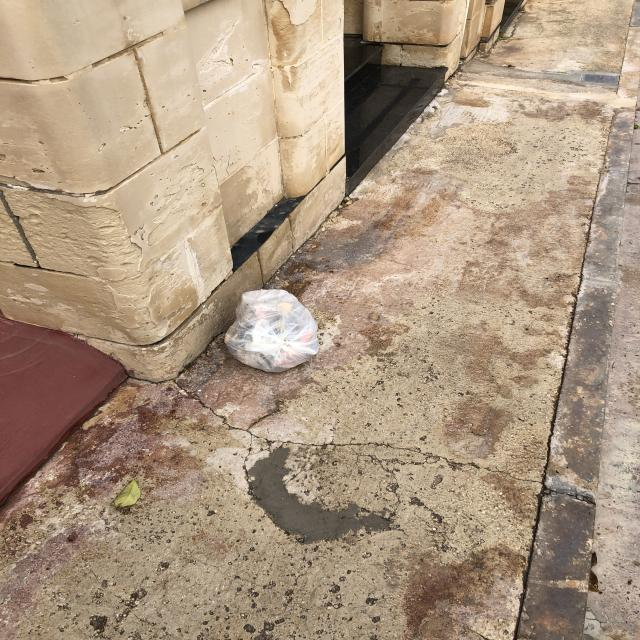Organic Waste -White Bag-: (229, 290, 325, 378)
